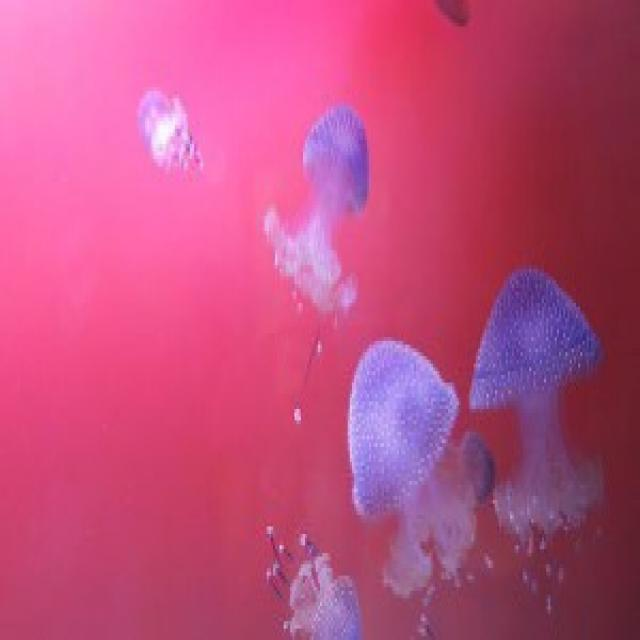Jellyfish: (472, 268, 604, 577), (346, 325, 469, 609), (268, 94, 374, 302), (263, 513, 364, 640), (132, 86, 212, 174)
